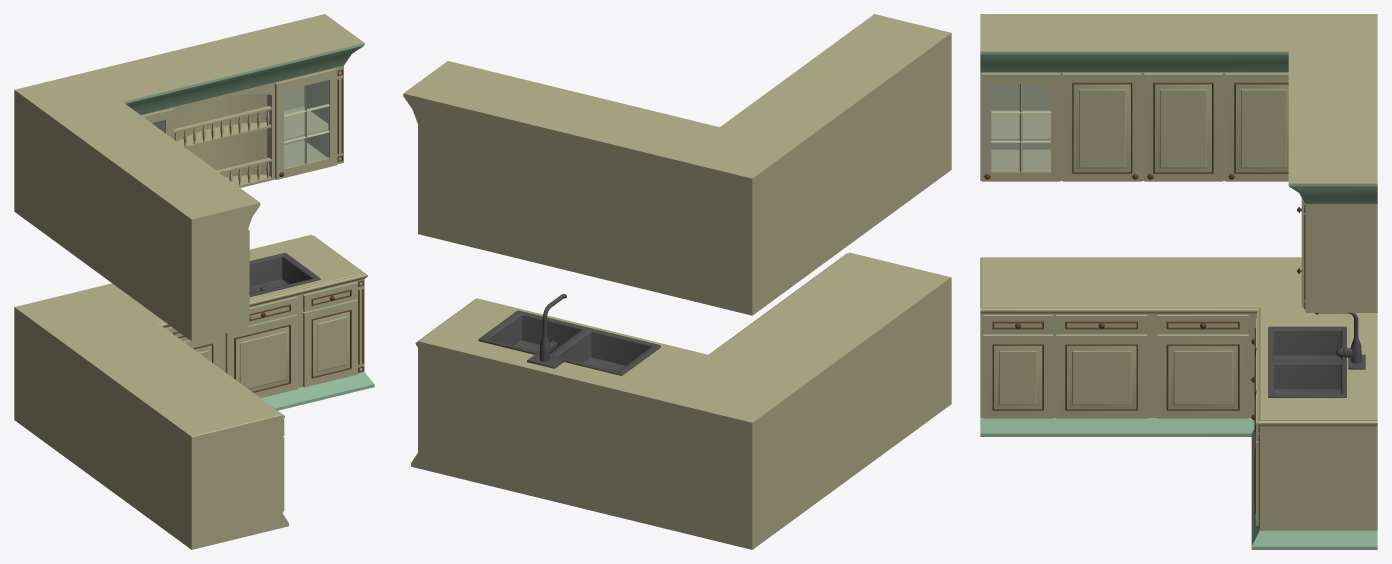
Rendered from HAIERZTKG0303.FBX.
The picture shows the model from 3 angles, left to right: view 1: azimuth 30°, elevation 25°; view 2: azimuth 150°, elevation 25°; view 3: azimuth 270°, elevation 25°; orthographic projection. The views are drawn at different scales.
Parts seen in each view (by area): view 1: HAIERZTKG0303; view 2: HAIERZTKG0303; view 3: HAIERZTKG0303.
Boxes of the visible parts, bbox=[...] form: HAIERZTKG0303: bbox=[14, 14, 374, 549]; HAIERZTKG0303: bbox=[403, 14, 951, 549]; HAIERZTKG0303: bbox=[980, 14, 1377, 549].
Size of the model in its own units: 198 by 196 by 201.
